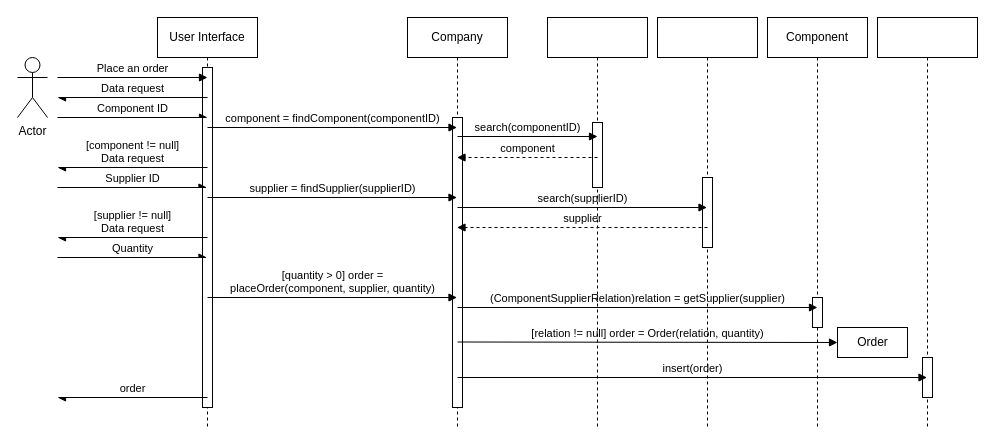
This 995x445 diagram has some shape labels left out. Each missing label, with the box of its shape:
ComponentList: (546, 16, 648, 428)
PendingOrders: (876, 16, 978, 428)
SupplierList: (656, 16, 758, 428)
